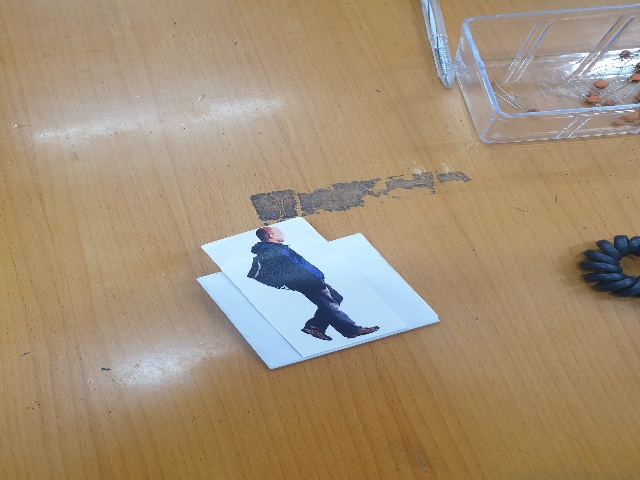Person: (244, 227, 381, 347)
